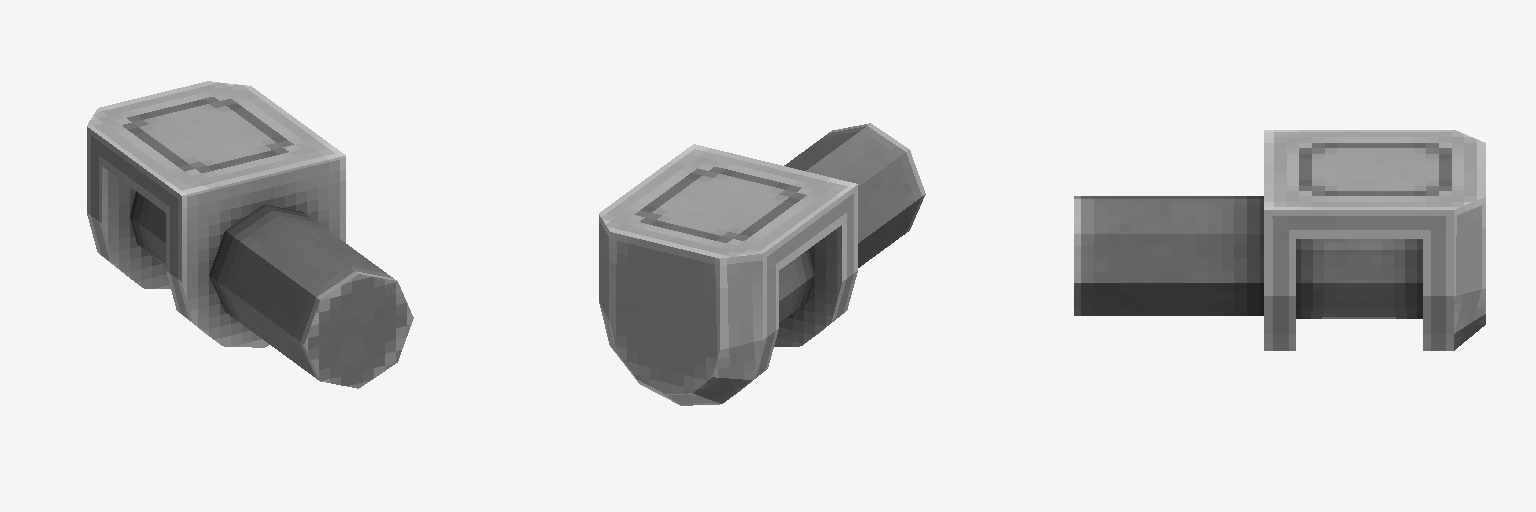
3 renders of one model, left to right at view 1: azimuth 30°, elevation 25°; view 2: azimuth 150°, elevation 25°; view 3: azimuth 270°, elevation 25°, orthographic.
Visible parts, largest first — view 1: mesh1, camera1; view 2: mesh1, camera1; view 3: mesh1, camera1.
Boxes of the visible parts, <box> form: mesh1: <box>87,81,413,388</box>; camera1: <box>130,191,165,265</box>; mesh1: <box>599,123,925,405</box>; camera1: <box>779,249,814,323</box>; mesh1: <box>1074,130,1485,350</box>; camera1: <box>1296,239,1422,318</box>.
Size of the model in its own units: 0.075 by 0.075 by 0.1625.
3 materials, 1 textured.